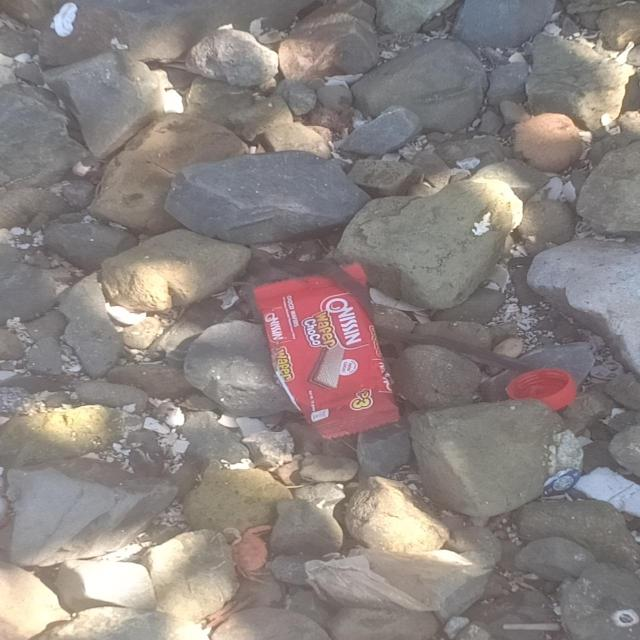plastic_waste: (252, 262, 402, 442), (506, 368, 579, 412)
